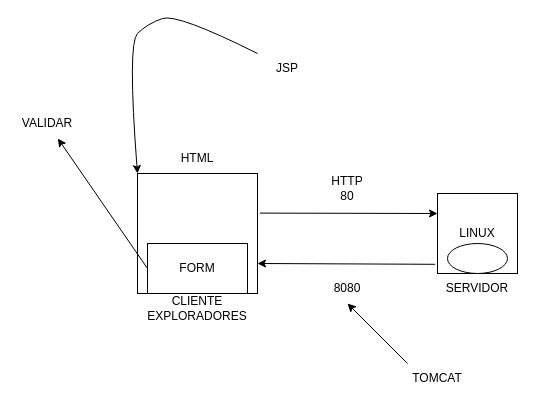
The diagram is 535 pixels wide and 411 high, and some of its shapes have lost their labels. Here are the shapes that lost their labels. From the top down, the box of each, then its label:
(136, 172, 258, 294): Página web
(446, 242, 508, 274): JAVA Servlet
